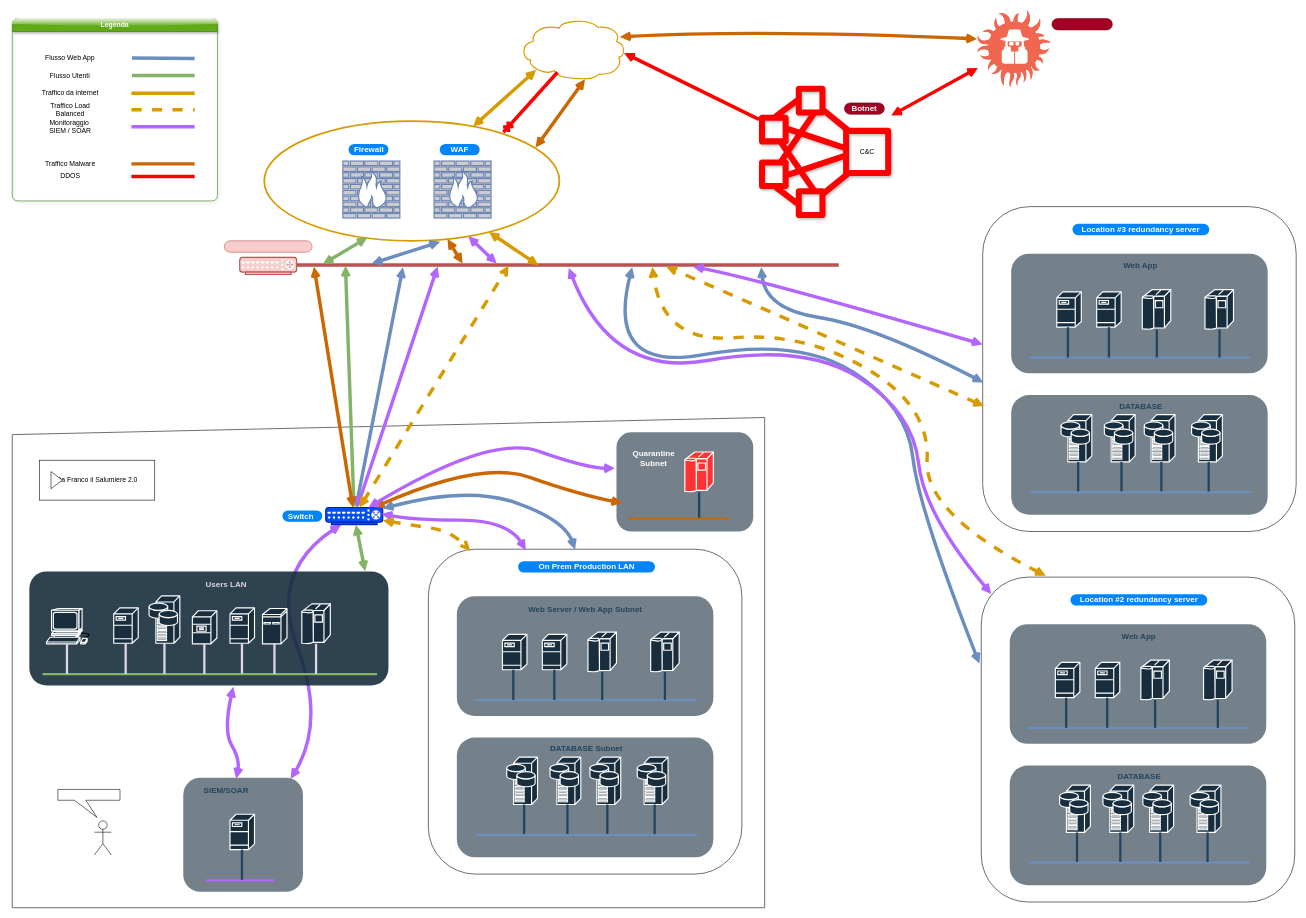
The diagram is 1306 pixels wide and 918 high, and some of its shapes have lost their labels. The centre of each missing label's shape, as x and y in pixels:
"Attaccante" belongs at (x=1081, y=24).
"Danilo" belongs at (x=102, y=837).
"Help!!" belongs at (x=88, y=803).
"Internet" belongs at (x=572, y=48).
"Load Balancer" belongs at (x=268, y=246).
